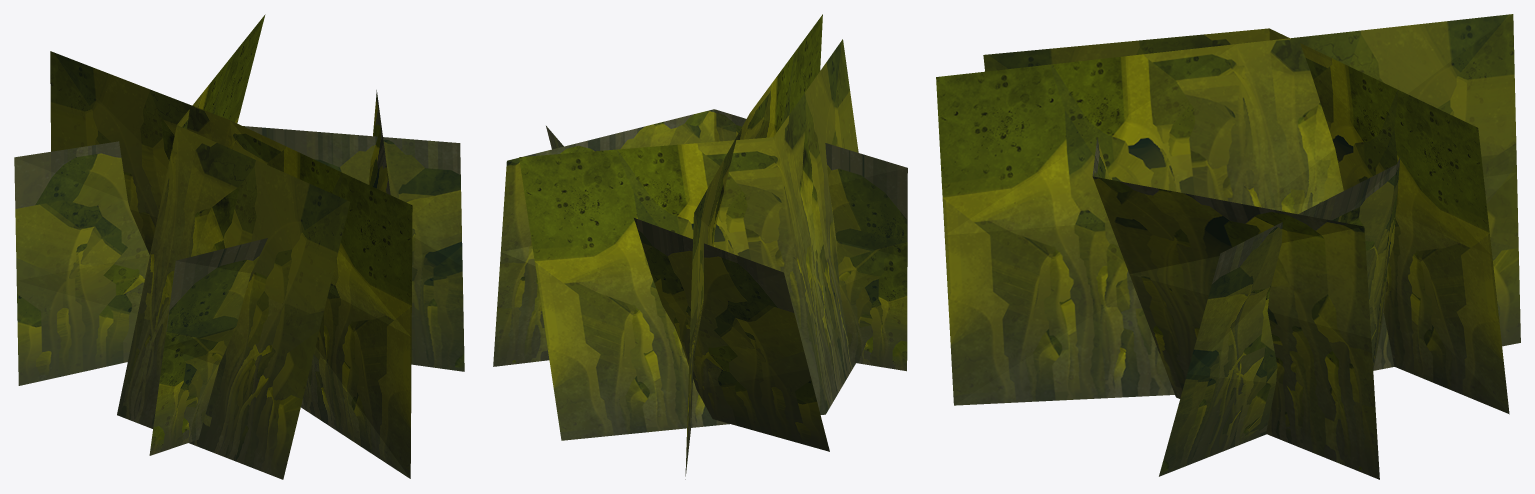
File: GroundCover02.fbx
3 renders of one model, left to right at view 1: azimuth 30°, elevation 25°; view 2: azimuth 150°, elevation 25°; view 3: azimuth 270°, elevation 25°, orthographic. The views are drawn at different scales.
Visible parts, largest first — view 1: Grass01; view 2: Grass01; view 3: Grass01.
Boxes of the visible parts, x1=… form: Grass01: x1=14, y1=14, x2=464, y2=479; Grass01: x1=493, y1=14, x2=907, y2=479; Grass01: x1=936, y1=14, x2=1520, y2=479.
Size of the model in its own units: 28.4 by 20.83 by 33.49.
